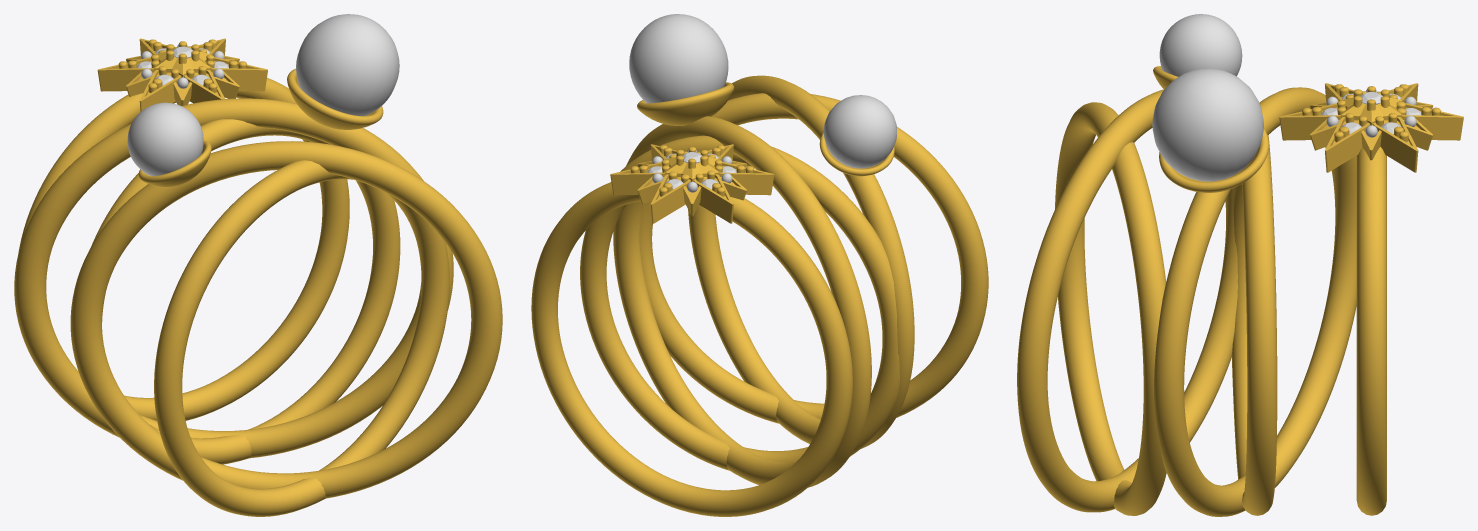
File: Ring_C_Optimazed.fbx
3 views of the same model, side by side, from view 1: azimuth 30°, elevation 25°; view 2: azimuth 150°, elevation 25°; view 3: azimuth 270°, elevation 25° (orthographic). The views are drawn at different scales.
Visible parts, largest first — view 1: Ring_C_01_Object, Ring_C_Spheres_02_Object, Ring_C_Diamond_Object; view 2: Ring_C_01_Object, Ring_C_Spheres_02_Object, Ring_C_Diamond_Object; view 3: Ring_C_01_Object, Ring_C_Spheres_02_Object, Ring_C_Diamond_Object, Ring_C_Spheres_01_Object.
Part boxes in pixels (x1,y1,x2,y2): Ring_C_01_Object: (14, 38, 502, 516); Ring_C_Spheres_02_Object: (127, 14, 399, 176); Ring_C_Diamond_Object: (136, 46, 228, 85); Ring_C_01_Object: (531, 75, 988, 516); Ring_C_Spheres_02_Object: (629, 14, 896, 168); Ring_C_Diamond_Object: (648, 152, 736, 189); Ring_C_01_Object: (1017, 66, 1463, 516); Ring_C_Spheres_02_Object: (1152, 14, 1263, 181); Ring_C_Diamond_Object: (1321, 92, 1421, 133); Ring_C_Spheres_01_Object: (1326, 89, 1416, 137).
Bounding box in the file's own units: 2.02 × 2.4 × 2.06.
